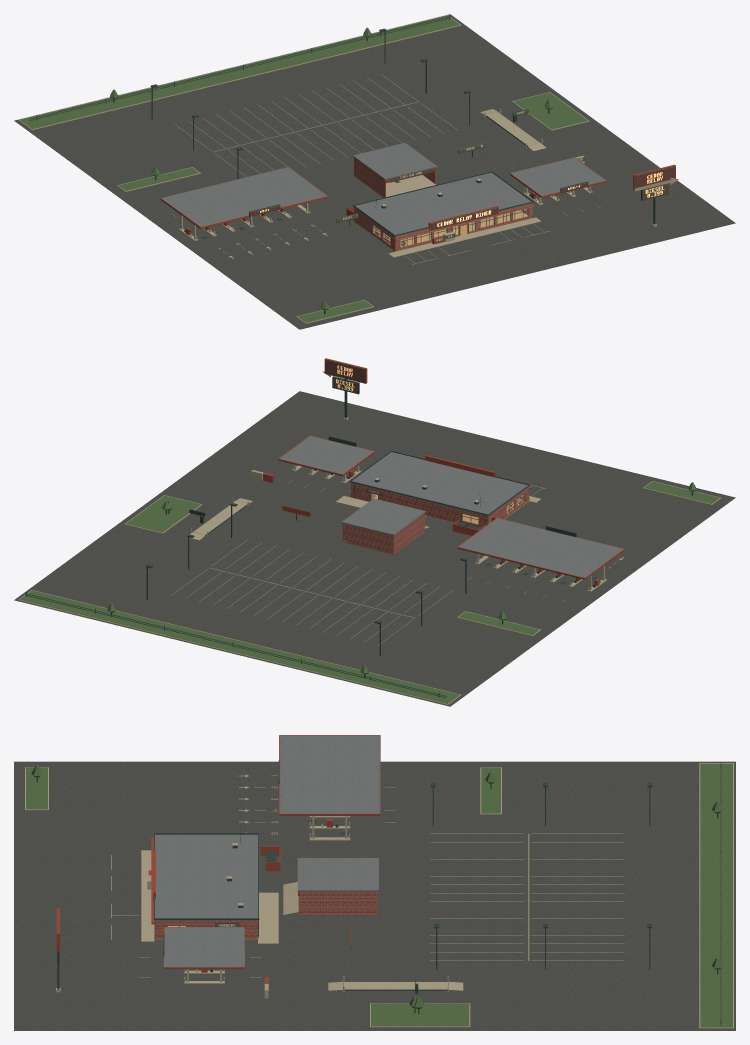
File: cedar-relay-1960.glb
3 renders of one model, top to bottom at view 1: azimuth 30°, elevation 25°; view 2: azimuth 150°, elevation 25°; view 3: azimuth 270°, elevation 25°, orthographic. The views are drawn at different scales.
Parts seen in each view (by area): view 1: lot, building_shell, diesel_canopy, era_service_bay, car_canopy, sign_name; view 2: lot, building_shell, diesel_canopy, era_service_bay, car_canopy, sign_name_rear; view 3: lot, building_shell, diesel_canopy, era_service_bay, car_canopy.
Part boxes in pixels (box(x1,y1,x2,y2)): lot: box(14, 14, 735, 329); building_shell: box(353, 171, 534, 251); diesel_canopy: box(160, 167, 328, 240); era_service_bay: box(353, 143, 437, 197); car_canopy: box(509, 157, 606, 205); sign_name: box(635, 166, 675, 188); lot: box(14, 391, 735, 706); building_shell: box(349, 450, 531, 527); diesel_canopy: box(457, 518, 624, 591); era_service_bay: box(341, 498, 429, 554); car_canopy: box(278, 435, 374, 483); sign_name_rear: box(325, 360, 365, 382); lot: box(14, 761, 735, 1030); building_shell: box(151, 830, 259, 939); diesel_canopy: box(278, 735, 380, 840); era_service_bay: box(283, 858, 378, 915); car_canopy: box(163, 927, 244, 983).
Size of what is drawn, in the model's own units: 127 by 15.56 by 144.
Materials: 10 (10 with a texture image).
